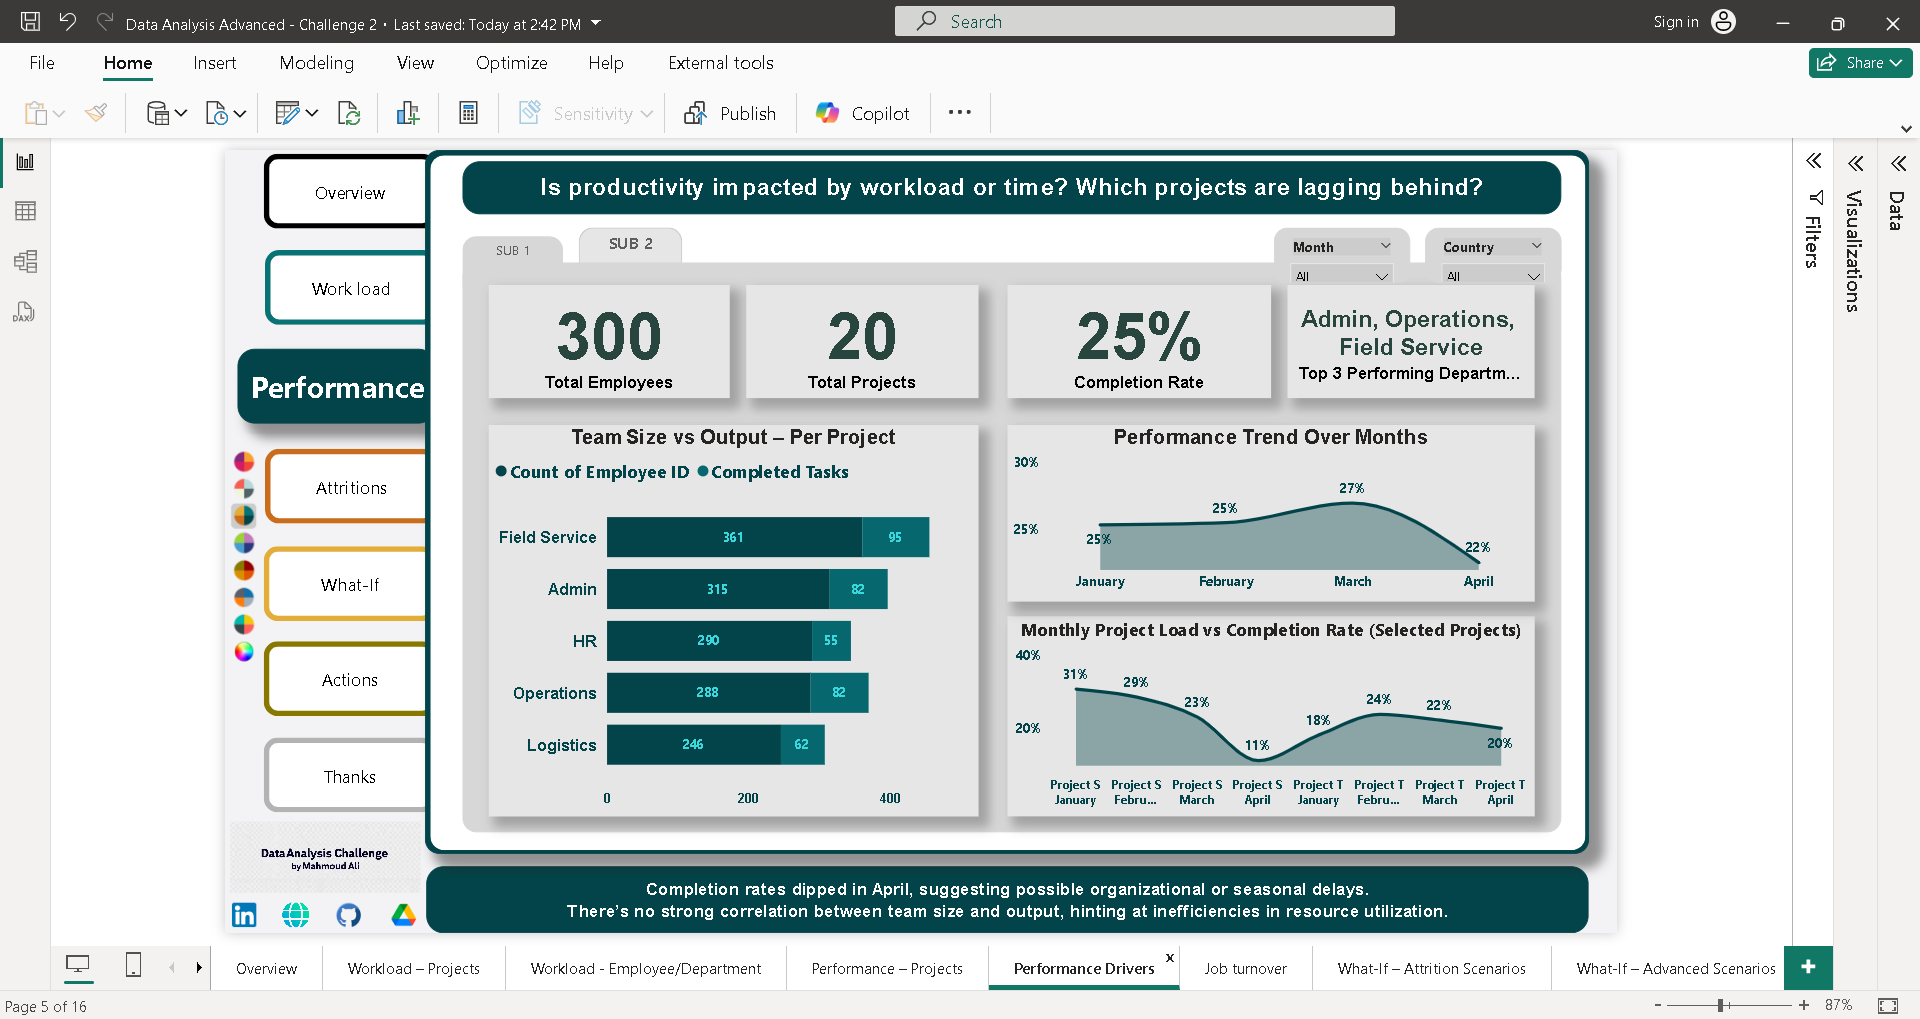

The page's visual inventory and layout, read from the dashboard file:
{"tool":"powerbi","page":{"name":"Performance Drivers","canvas":[1280,720],"ordinal":4},"visuals":[{"type":"ChicletSlicer1448559807354","fields":{"Category":["Sheet1.Color Scheme"],"Image":["Sheet1.URL"]},"box":[0,268.8,35,252.5],"z":0},{"type":"card","fields":{"Values":["Min(Color Scheme.Suggestion)"]},"box":[955,0,291.2,49.1],"z":1000},{"type":"image","box":[146.2,687.5,37.5,32.5],"z":2000},{"type":"image","box":[90,687.5,48.8,32.5],"z":3000},{"type":"image","box":[47.5,687.5,36.2,32.5],"z":4000},{"type":"image","box":[0,687.5,35,32.5],"z":5000},{"type":"image","box":[0,612.5,185,75],"z":6000},{"type":"textbox","box":[185.4,658.9,1068.5,61.4],"z":7000},{"type":"actionButton","title":"Button","box":[36.7,274.4,158.9,68.9],"z":8000},{"type":"actionButton","title":"Button","box":[35.6,364.4,158.9,68.9],"z":9000},{"type":"actionButton","box":[11.2,182.5,182.5,68.8],"z":10000},{"type":"actionButton","title":"Button","box":[35.6,3.3,158.9,68.9],"z":11000},{"type":"actionButton","title":"Button","box":[35.6,452.2,158.9,68.9],"z":12000},{"type":"actionButton","title":"Button","box":[35.6,540,158.9,68.9],"z":13000},{"type":"actionButton","title":"Button","box":[36.7,92.2,158.9,68.9],"z":14000},{"type":"actionButton","box":[183.8,0,1070,647.5],"z":15000},{"type":"actionButton","box":[325.7,71.4,95.2,46.3],"z":16000},{"type":"basicShape","box":[218.8,103.8,1010,523.8],"z":17000},{"type":"actionButton","box":[218.4,79.6,92.9,57.9],"z":18000},{"type":"barChart","title":"Team Size vs Output – Per Project","fields":{"Category":["Advanced_Employees.Department"],"Y":["CountNonNull(Advanced_Tasks.Employee ID)","Measures Table.Completed Tasks"]},"box":[242.5,252.5,450,360],"z":19000},{"type":"areaChart","title":"Monthly Project Load vs Completion Rate (Selected Projects)","fields":{"Category":["Advanced_Projects.Project Name","Advanced_Tasks.Date.Variation.Date Hierarchy.Month"],"Y":["Measures Table.Completion Rate"]},"box":[720,428.8,485,183.8],"z":20000},{"type":"lineChart","title":"Performance Trend Over Months","fields":{"Category":["Advanced_Tasks.Date.Variation.Date Hierarchy.Month"],"Y":["Measures Table.Completion Rate"]},"box":[720,252.5,485,162.5],"z":21000},{"type":"card","fields":{"Values":["Measures Table.Total Employees"]},"box":[242.5,123.8,221.2,103.8],"z":22000},{"type":"card","fields":{"Values":["Measures Table.Total Projects"]},"box":[478.8,123.8,213.8,103.8],"z":23000},{"type":"card","fields":{"Values":["Measures Table.Avg Completion Rate"]},"box":[720,123.8,242.5,103.8],"z":24000},{"type":"card","fields":{"Values":["Measures Table.Top 3 Performing Departments"]},"box":[977.5,123.8,227.5,103.8],"z":25000},{"type":"textbox","box":[218.8,10,1010,48.8],"z":26000},{"type":"slicer","fields":{"Values":["Advanced_Employees.Country"]},"box":[1103.6,71.4,125.3,51.4],"z":27000},{"type":"slicer","fields":{"Values":["Advanced_Employees.Date of Joining.Variation.Date Hierarchy.Month"]},"box":[964.6,71.4,125.3,51.4],"z":28000}]}

Visuals, with their boxes on the page's 1280x720 design canvas (x1, y1, x2, y2). These are canvas units, not pixel positions in the 1920x1019 screenshot, which may show the page scaled, cropped or inside an application window:
ChicletSlicer1448559807354 - Sheet1.Color Scheme x Sheet1.URL: crop(0, 269, 35, 521)
card - Min(Color Scheme.Suggestion): crop(955, 0, 1246, 49)
image: crop(146, 688, 184, 720)
image: crop(90, 688, 139, 720)
image: crop(48, 688, 84, 720)
image: crop(0, 688, 35, 720)
image: crop(0, 612, 185, 688)
textbox: crop(185, 659, 1254, 720)
"Button" actionButton: crop(37, 274, 196, 343)
"Button" actionButton: crop(36, 364, 194, 433)
actionButton: crop(11, 182, 194, 251)
"Button" actionButton: crop(36, 3, 194, 72)
"Button" actionButton: crop(36, 452, 194, 521)
"Button" actionButton: crop(36, 540, 194, 609)
"Button" actionButton: crop(37, 92, 196, 161)
actionButton: crop(184, 0, 1254, 648)
actionButton: crop(326, 71, 421, 118)
basicShape: crop(219, 104, 1229, 628)
actionButton: crop(218, 80, 311, 138)
"Team Size vs Output – Per Project" barChart: crop(242, 252, 692, 612)
"Monthly Project Load vs Completion Rate (Selected Projects)" areaChart: crop(720, 429, 1205, 613)
"Performance Trend Over Months" lineChart: crop(720, 252, 1205, 415)
card - Measures Table.Total Employees: crop(242, 124, 464, 228)
card - Measures Table.Total Projects: crop(479, 124, 693, 228)
card - Measures Table.Avg Completion Rate: crop(720, 124, 962, 228)
card - Measures Table.Top 3 Performing Departments: crop(978, 124, 1205, 228)
textbox: crop(219, 10, 1229, 59)
slicer - Advanced_Employees.Country: crop(1104, 71, 1229, 123)
slicer - Advanced_Employees.Date of Joining.Variation.Date Hierarchy.Month: crop(965, 71, 1090, 123)
